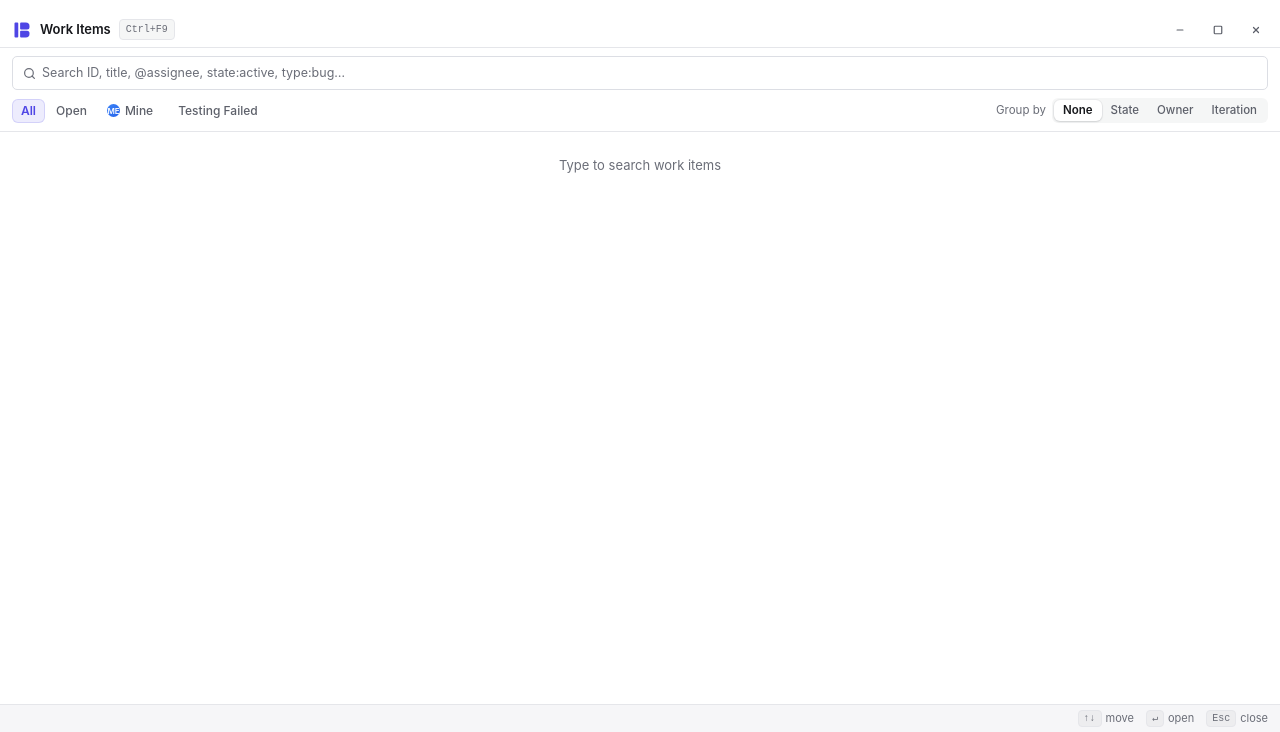
WorkItemPaletteApp › shows status text for short numeric search
Type "1" into the field with placeholder "Search ID, title, @assignee, state:active, type:bug…". click: point(650, 73)
box: [42, 64, 1259, 82]
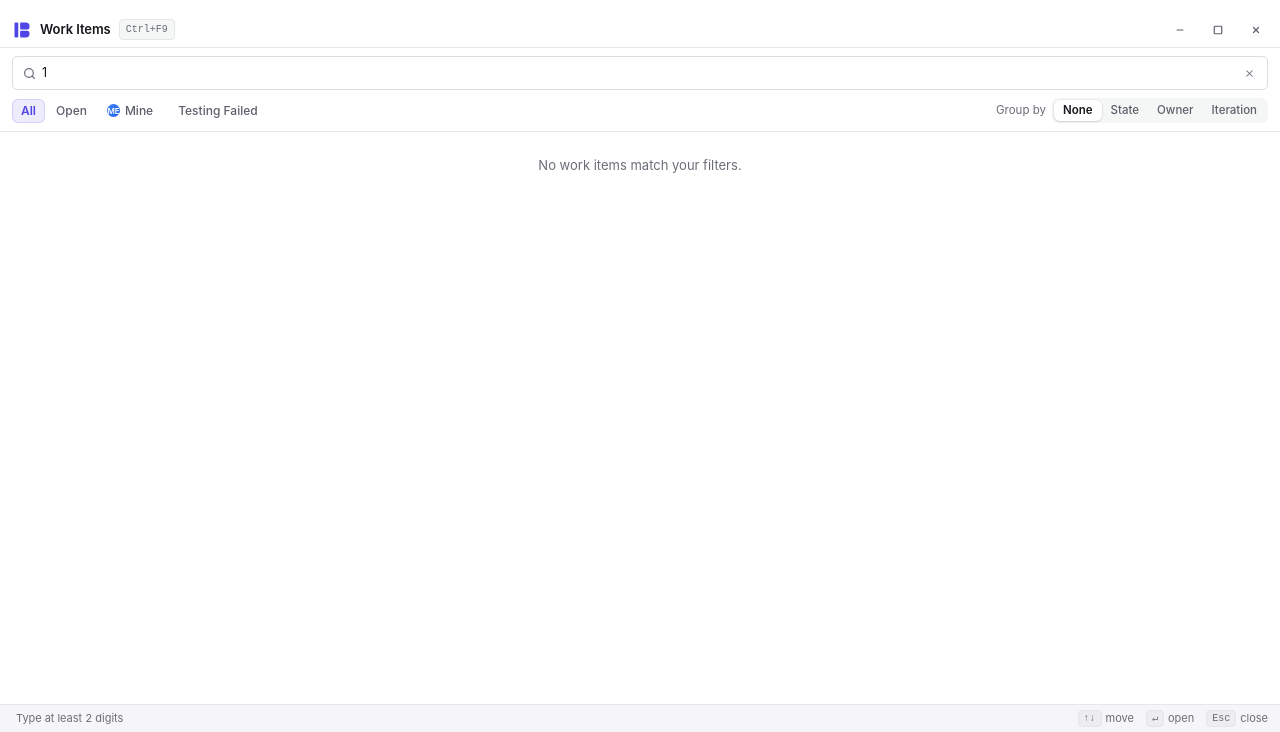
Result: the text "Type at least 2 digits" is shown at [16, 710, 123, 727]
